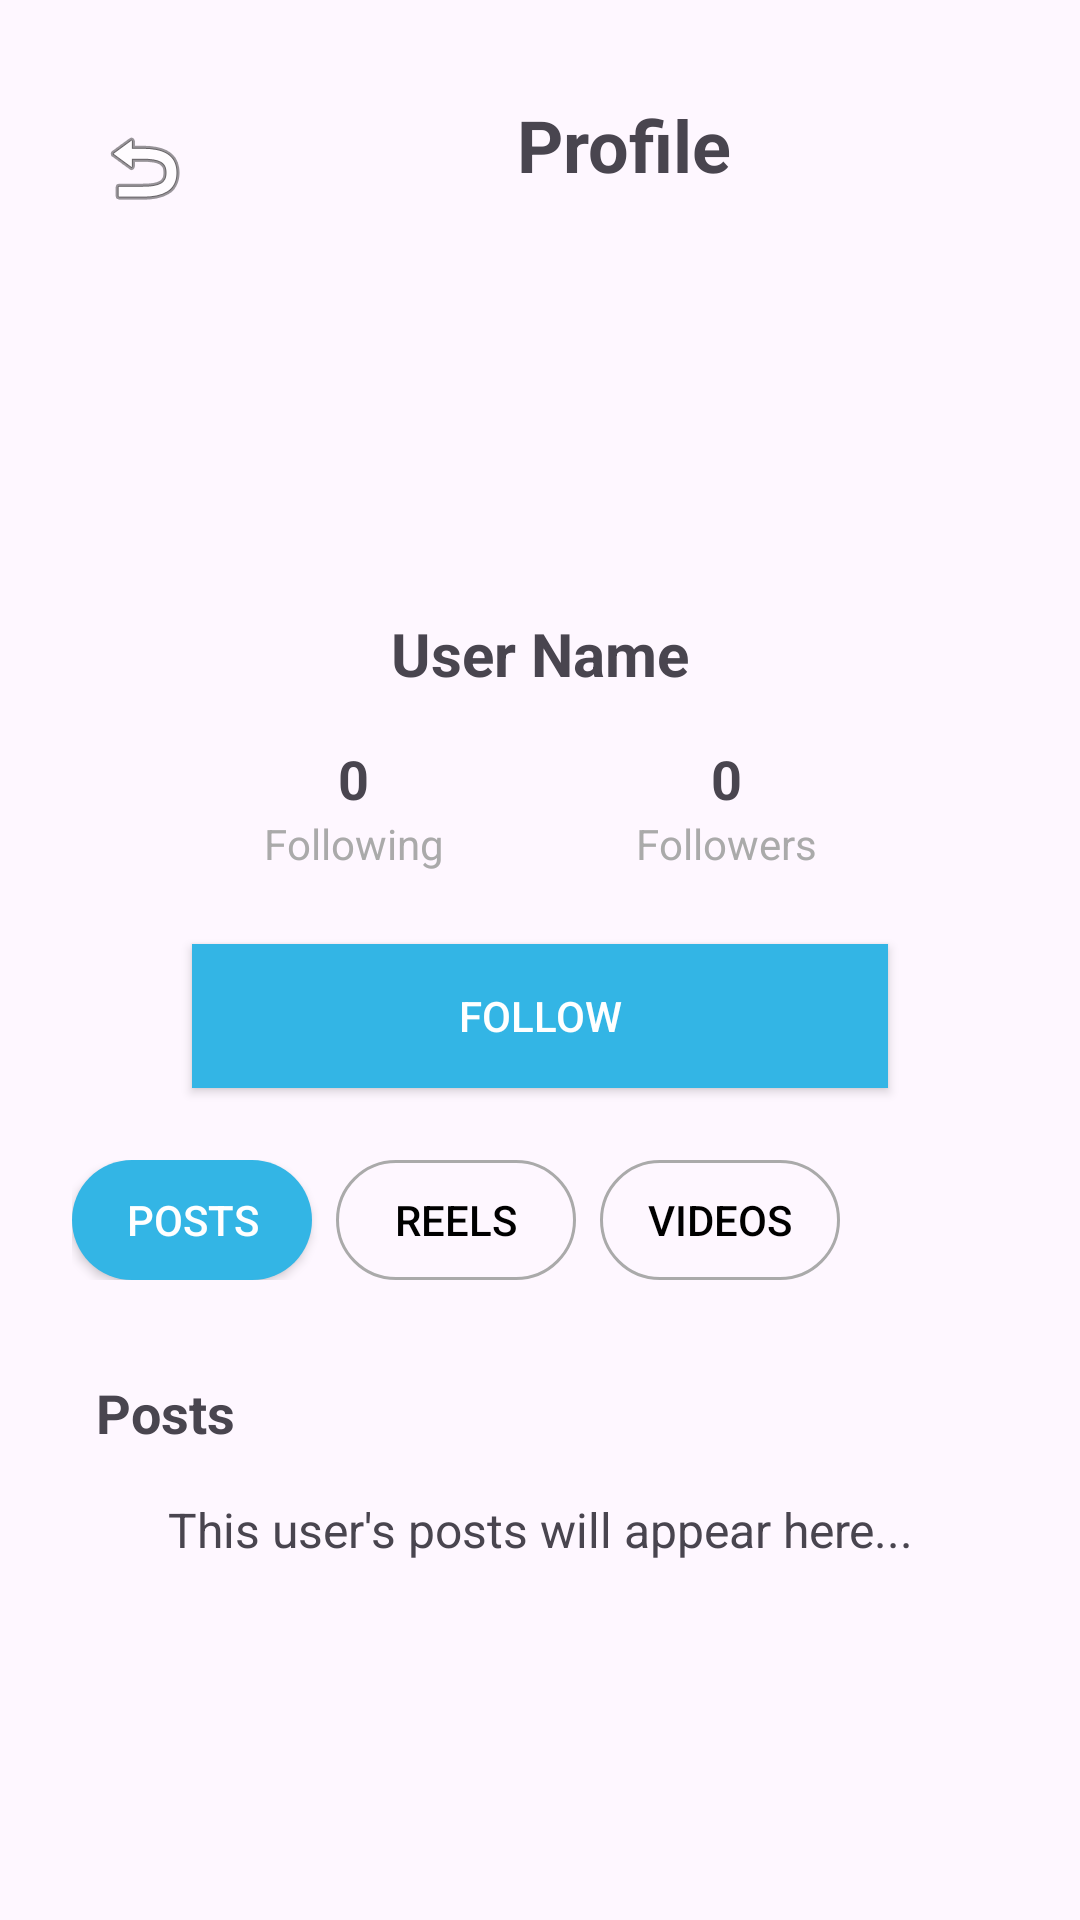

Where to tap for icons on this 1080 x 1920 app screen, as (x,y):
Back: (145,168)
